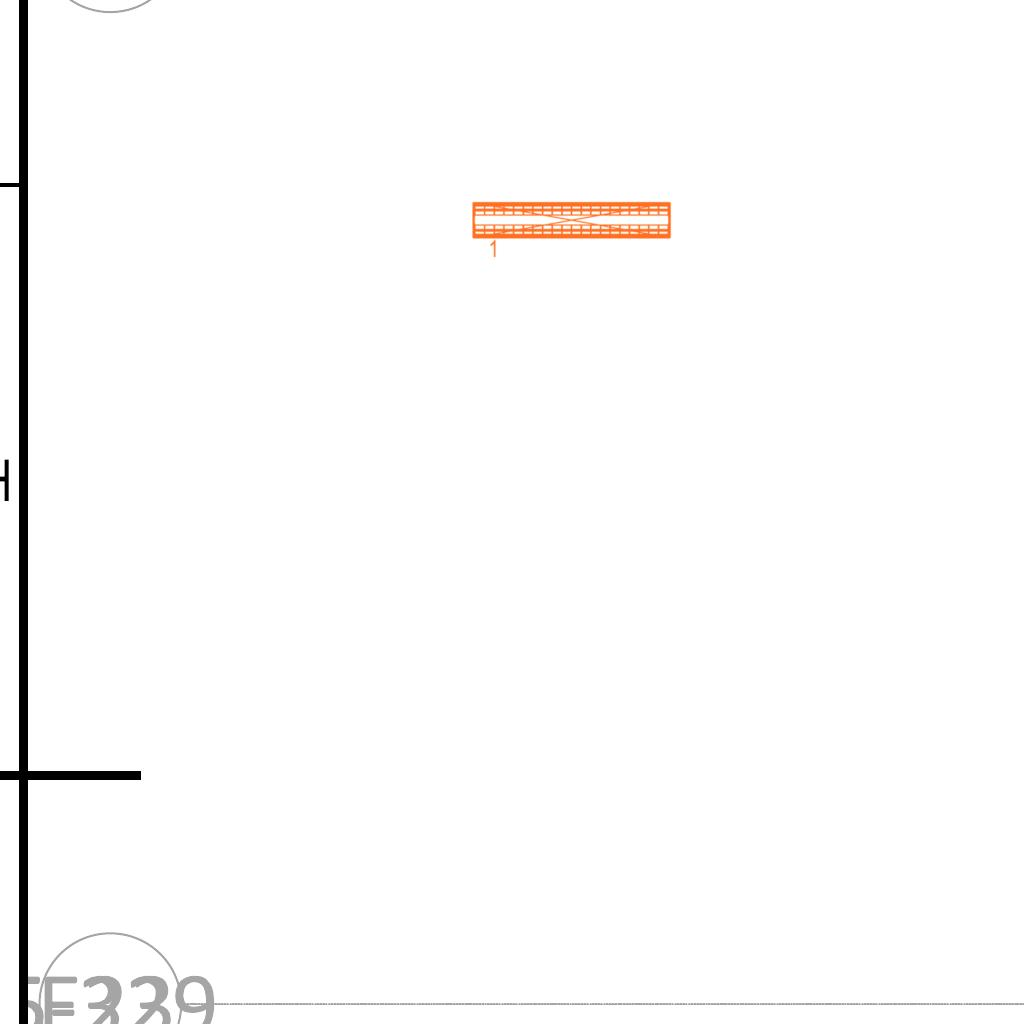Buero_Pendelleuchten_LED: (469, 197, 675, 262)
